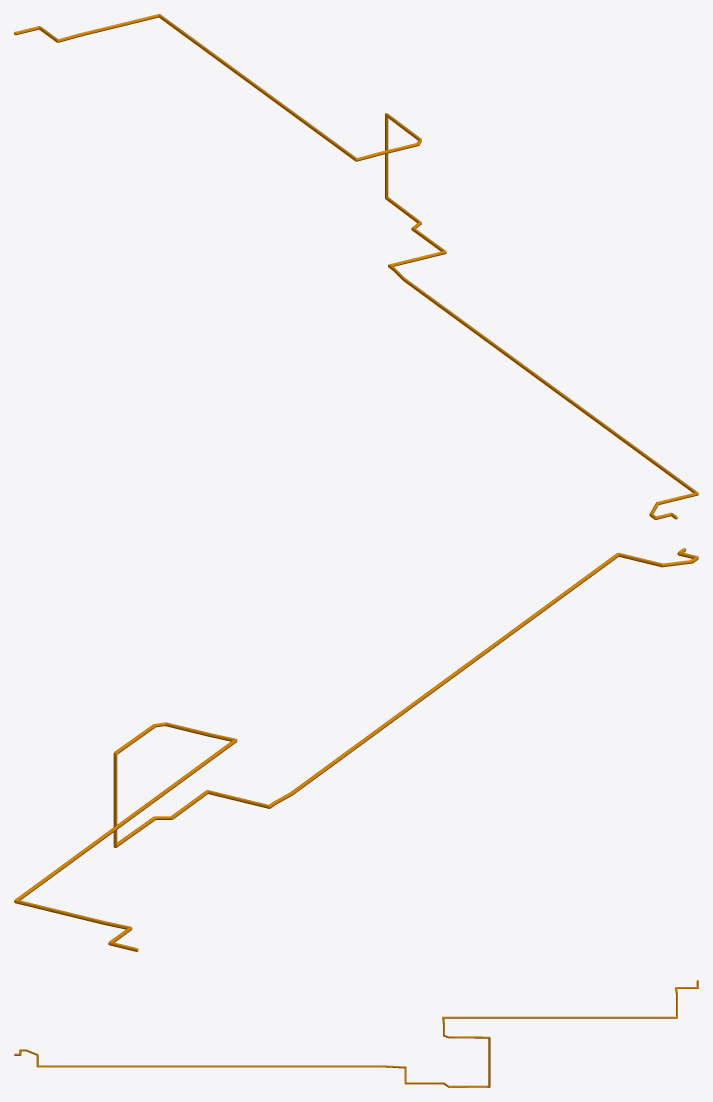
The picture shows the model from 3 angles, top to bottom: view 1: azimuth 30°, elevation 25°; view 2: azimuth 150°, elevation 25°; view 3: azimuth 270°, elevation 25°; orthographic projection. The views are drawn at different scales.
Size of the model in its own units: 1247 by 520 by 6301.
